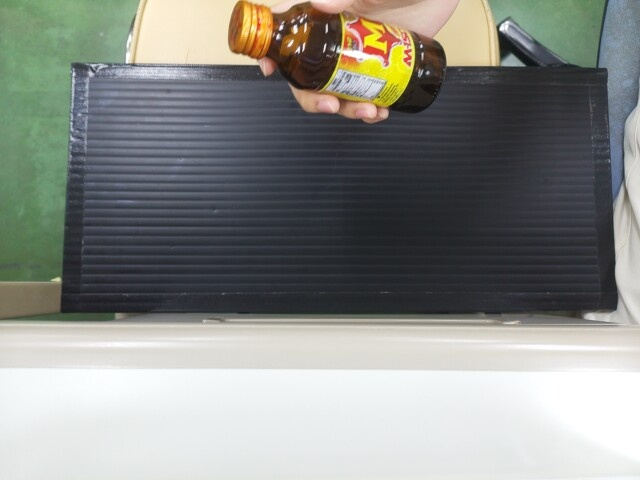glass_bottle: (225, 0, 445, 107)
